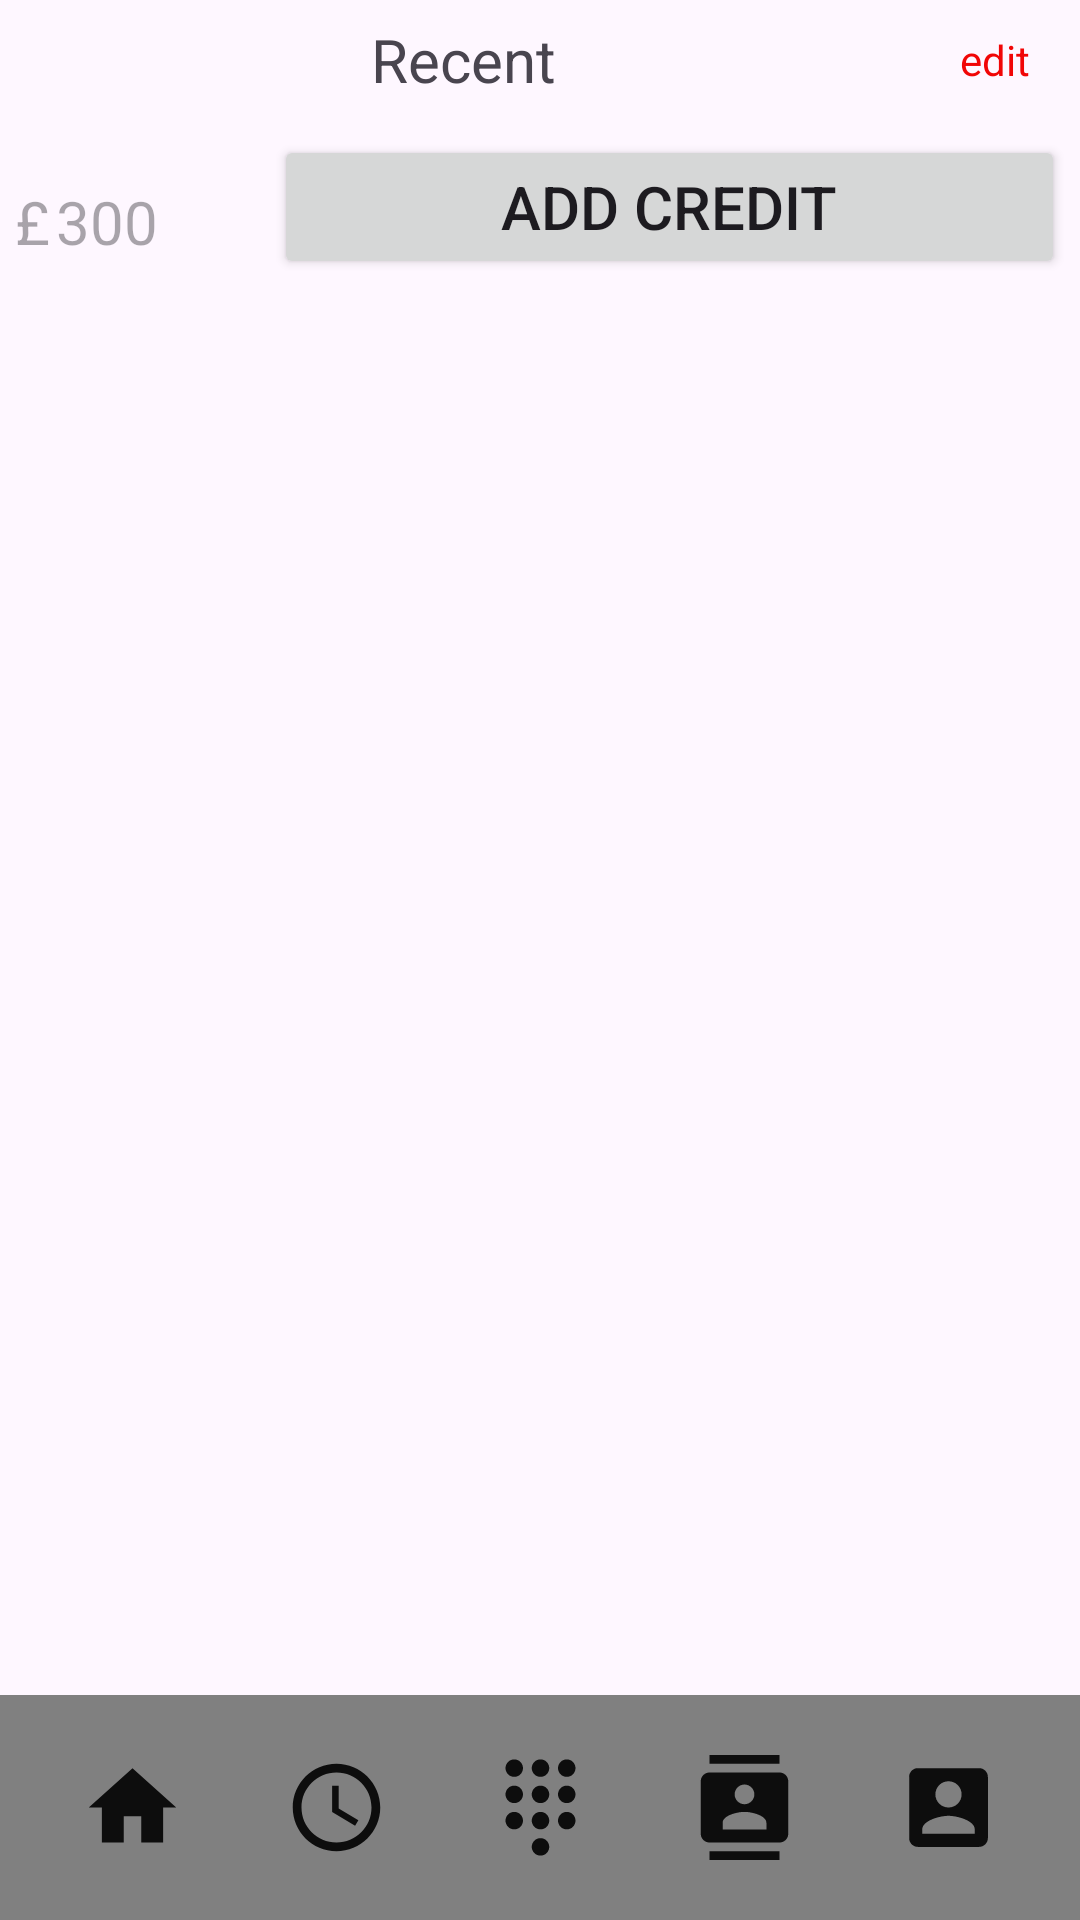

Icons on this 1080 × 1920 Android screen, each with its box as (x1, y1, x2, y2):
Contact: (700, 1755, 789, 1860)
Dialpad: (505, 1759, 576, 1856)
Home: (89, 1768, 176, 1843)
Profile: (909, 1768, 988, 1847)
Recent: (292, 1763, 381, 1852)
